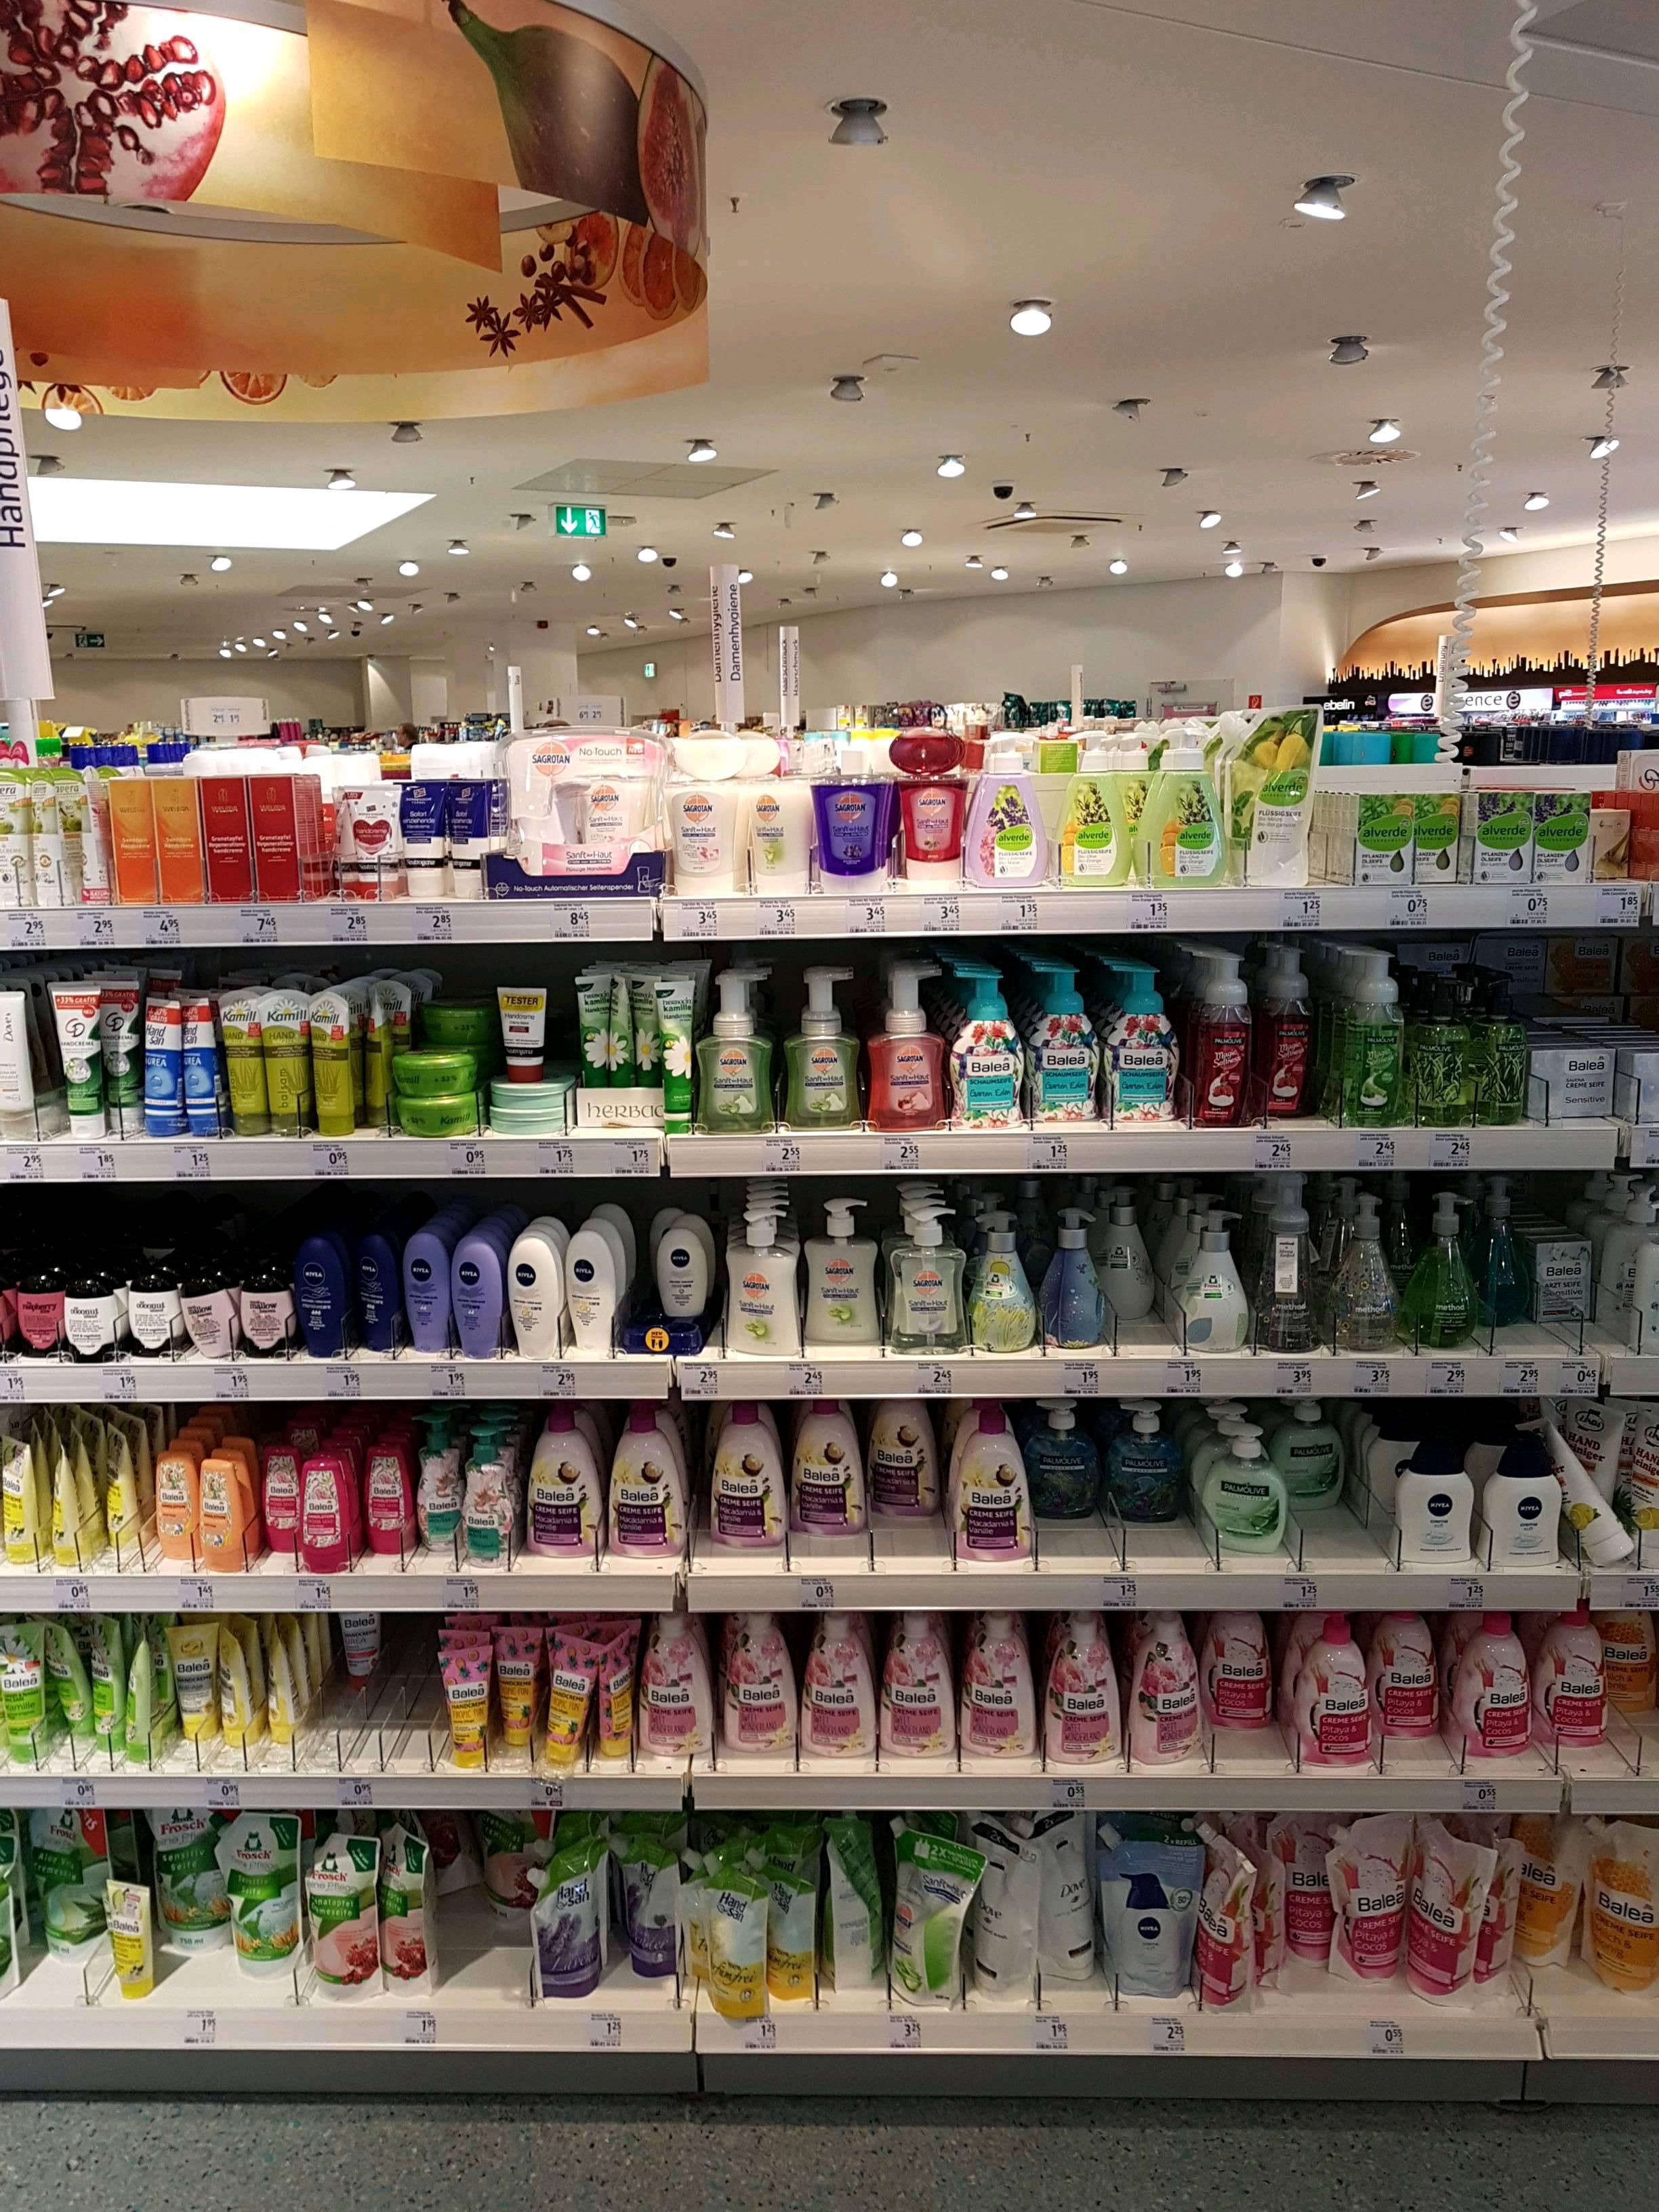misalignment: (1544, 1413, 1636, 1568), (817, 1822, 890, 1993), (1039, 1811, 1108, 1977), (1208, 1834, 1258, 2001), (108, 1883, 157, 2001), (497, 972, 544, 1085), (261, 1637, 305, 1747), (601, 1637, 638, 1759), (220, 1637, 256, 1745)
